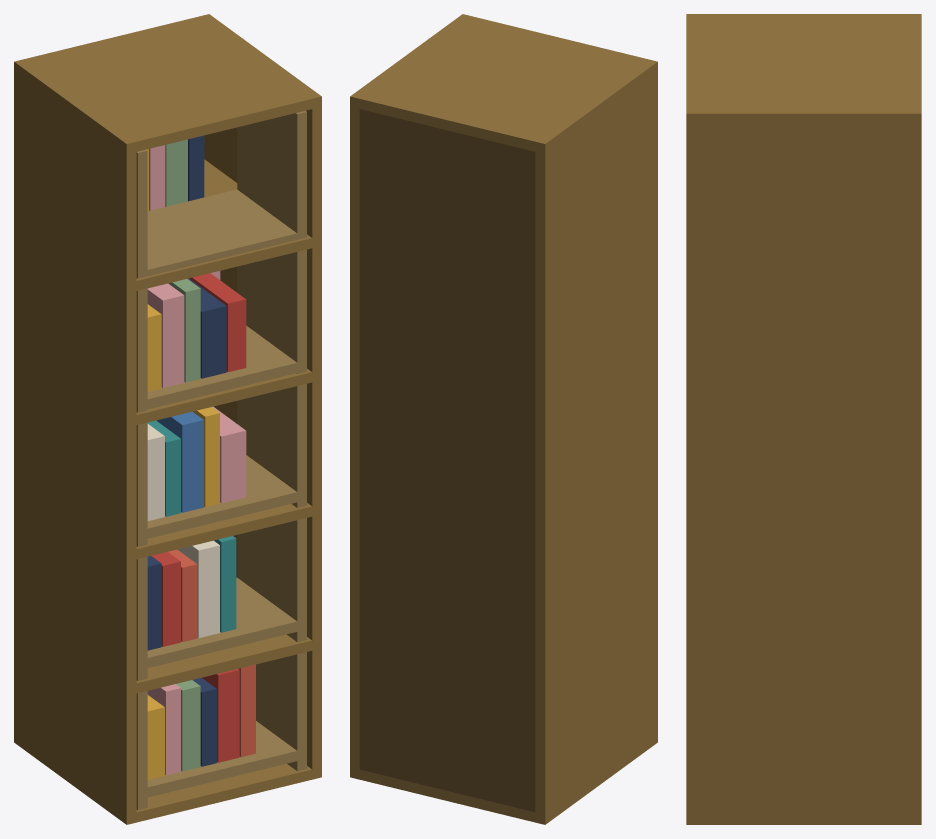
The model's file is expanding_shelf.glb.
3 renders of one model, left to right at view 1: azimuth 30°, elevation 25°; view 2: azimuth 150°, elevation 25°; view 3: azimuth 270°, elevation 25°, orthographic. The views are drawn at different scales.
Parts seen in each view (by area): view 1: expanding_shelf_Body, expanding_shelf_Inner; view 2: expanding_shelf_Body; view 3: expanding_shelf_Body.
Part boxes in pixels (x1=…): expanding_shelf_Body: x1=14, y1=14, x2=321, y2=824; expanding_shelf_Inner: x1=136, y1=110, x2=306, y2=809; expanding_shelf_Body: x1=350, y1=14, x2=657, y2=824; expanding_shelf_Body: x1=686, y1=14, x2=921, y2=824.
Bounding box in the file's own units: 0.6 × 2 × 0.6.
